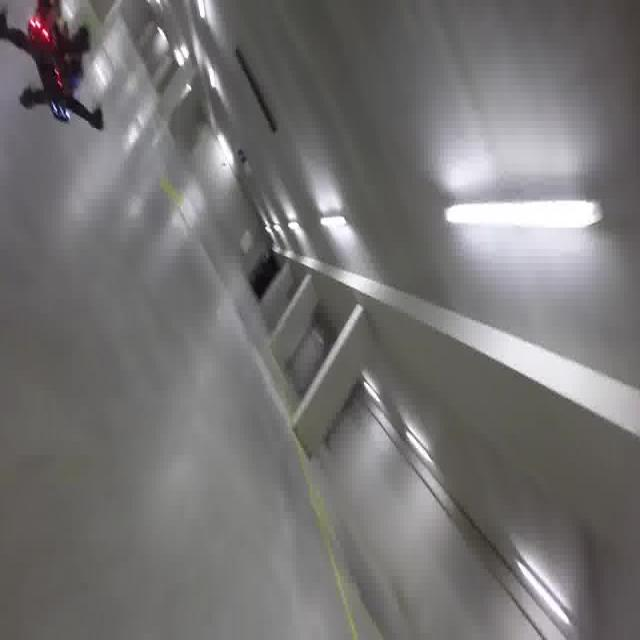Drone_FW: (0, 0, 108, 138)
